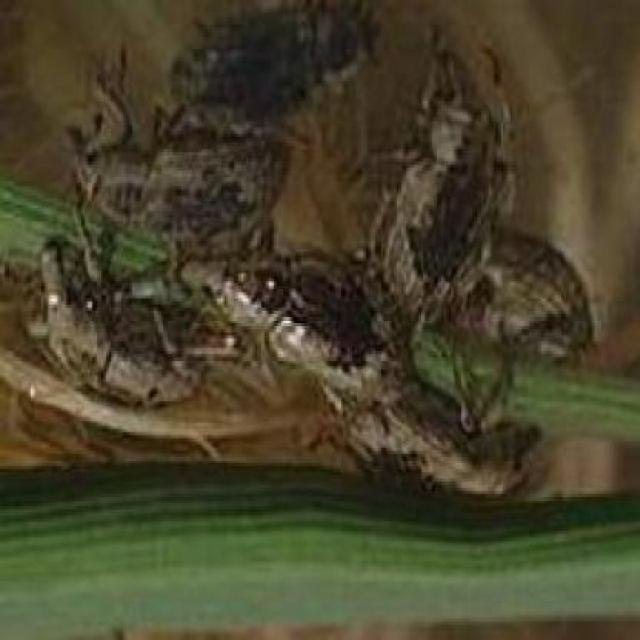rice-bug: (35, 2, 602, 509)
